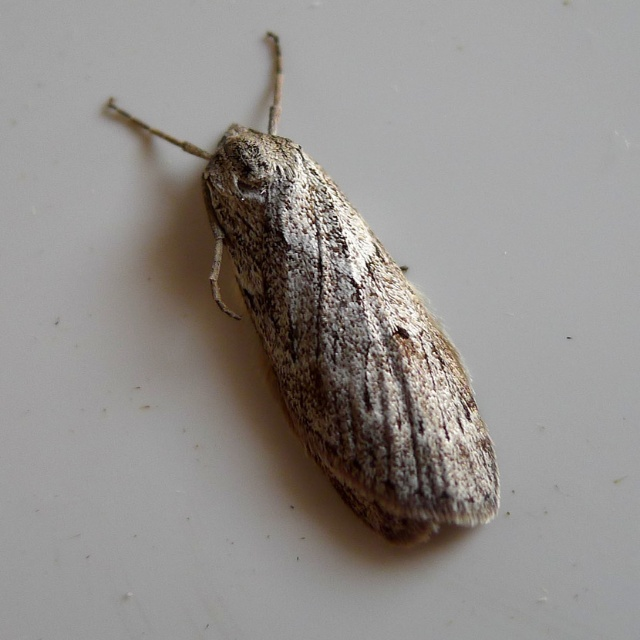Moths and butterflies: (101, 30, 504, 552)
